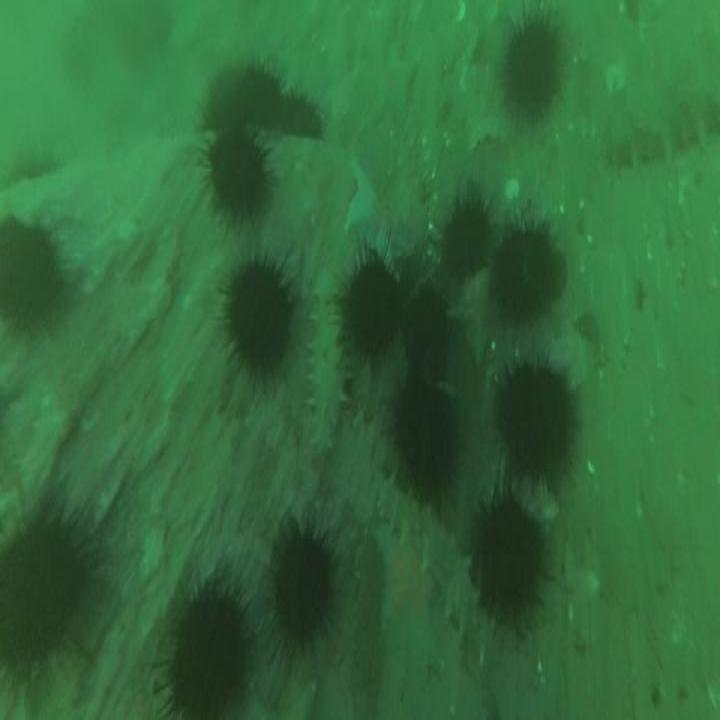echinus: (1, 524, 86, 681), (168, 590, 247, 720), (474, 501, 540, 624), (227, 258, 292, 370), (500, 368, 568, 471), (395, 388, 460, 494), (340, 256, 404, 363), (272, 538, 335, 644), (2, 224, 58, 334), (504, 18, 562, 114), (494, 228, 553, 314), (211, 132, 267, 222), (402, 286, 451, 382), (443, 199, 492, 277), (241, 60, 278, 130), (272, 93, 325, 135), (204, 91, 247, 133)
holothurian: (377, 485, 490, 665), (306, 270, 352, 460), (609, 105, 707, 174)
starfish: (347, 156, 406, 274)
